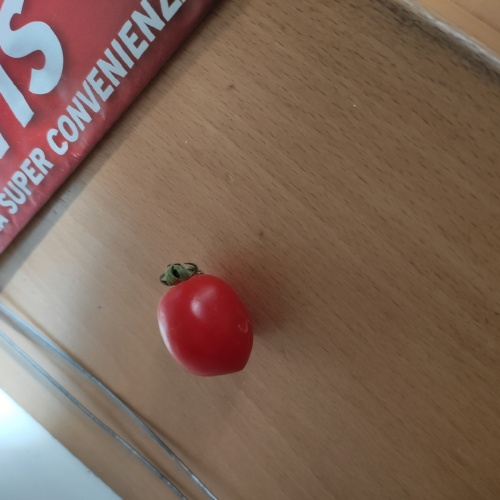pomodoro: (148, 255, 262, 382)
